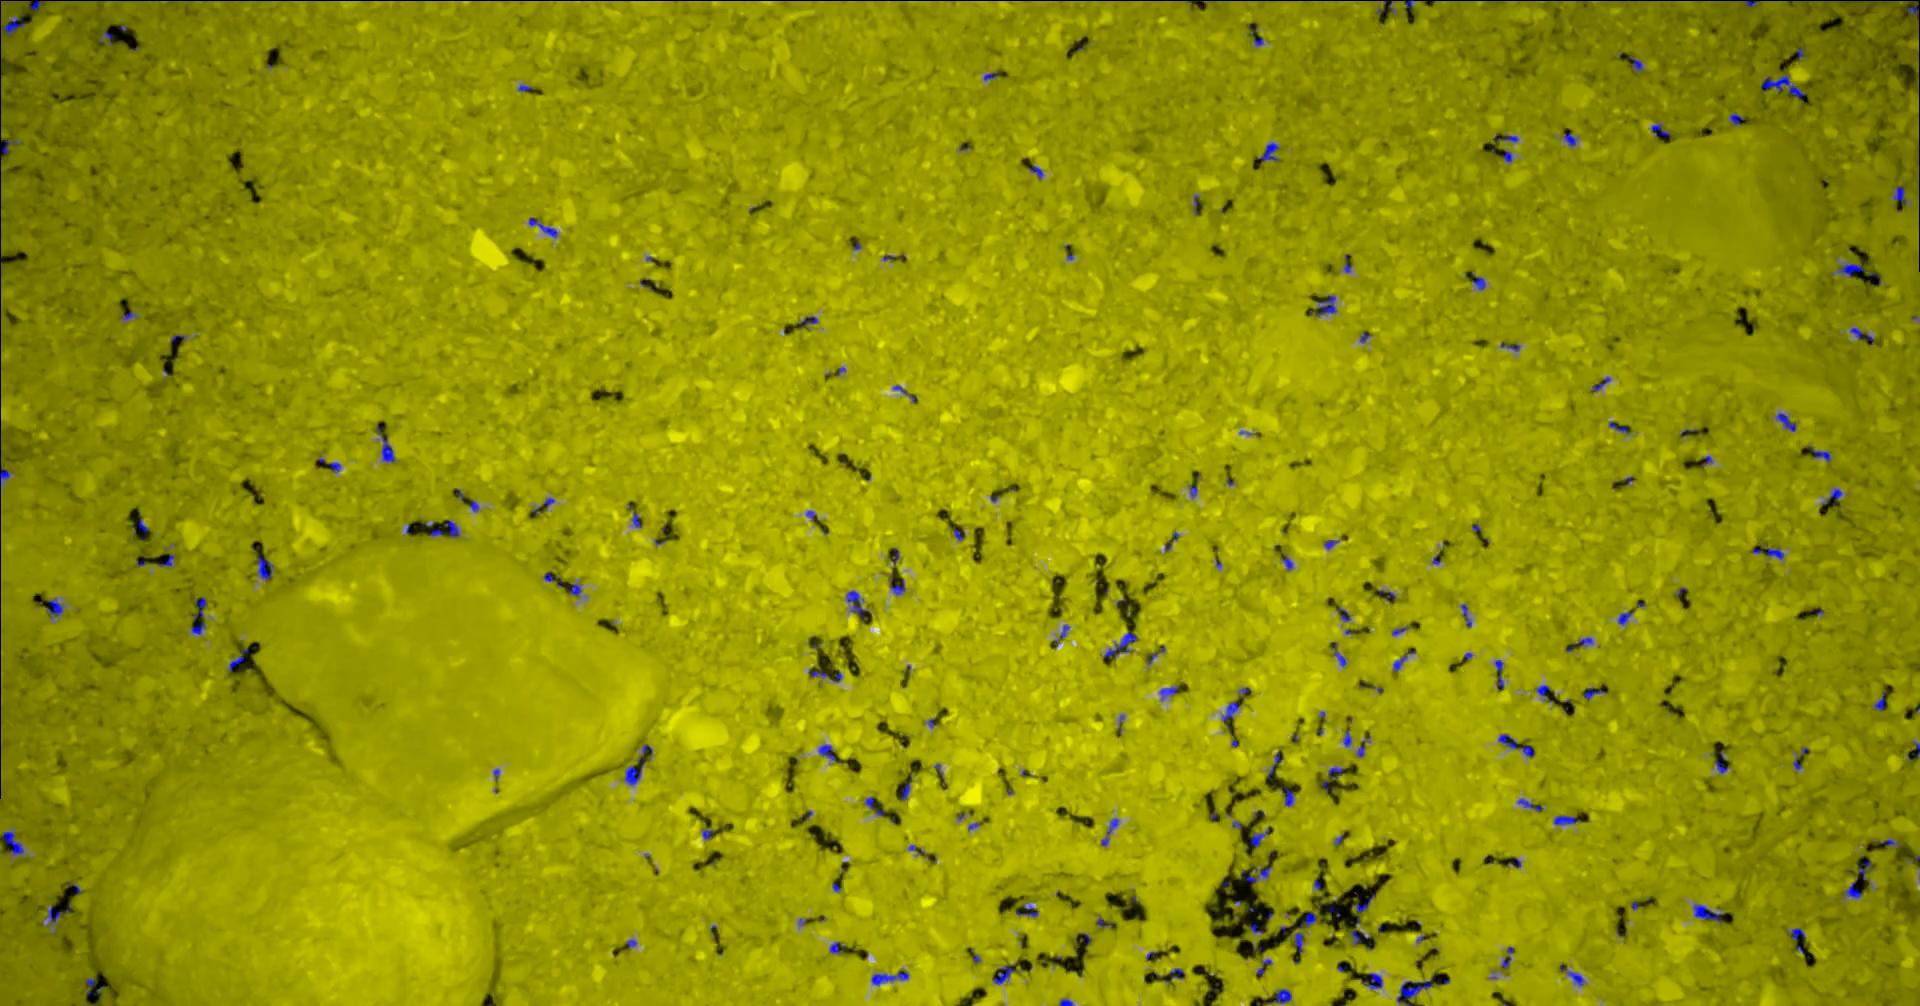ant: (1785, 0, 1919, 15), (1761, 74, 1804, 102), (1396, 978, 1432, 1005), (1103, 631, 1137, 657), (844, 589, 869, 622), (376, 424, 396, 462), (623, 756, 645, 785), (1693, 903, 1724, 922), (528, 217, 557, 238), (1308, 295, 1336, 315), (1239, 865, 1271, 882), (0, 17, 24, 38), (46, 903, 71, 923), (871, 970, 908, 984), (3, 829, 23, 854), (1559, 964, 1583, 984), (1751, 544, 1783, 559), (0, 431, 9, 484), (1101, 817, 1117, 845), (1831, 263, 1863, 277), (257, 553, 273, 579), (11, 0, 55, 10), (1256, 142, 1279, 161), (229, 648, 248, 671), (1250, 826, 1269, 847), (1354, 893, 1375, 912), (992, 965, 1015, 983), (1267, 988, 1291, 1005), (1775, 412, 1796, 431), (1359, 973, 1382, 989), (1712, 749, 1727, 774), (46, 598, 63, 619), (1222, 701, 1239, 721), (1855, 860, 1873, 880), (889, 572, 904, 594), (1331, 643, 1346, 666), (1843, 880, 1862, 898), (1821, 486, 1841, 503), (192, 597, 206, 620), (1892, 185, 1909, 205), (1517, 798, 1542, 810), (818, 744, 836, 761), (1298, 911, 1316, 927), (899, 774, 910, 799), (1497, 734, 1517, 748), (1608, 420, 1629, 433), (1724, 0, 1760, 8), (1628, 55, 1643, 72), (0, 138, 19, 152), (543, 572, 563, 586), (1159, 685, 1178, 699), (1350, 930, 1369, 944), (1583, 687, 1606, 699), (1015, 904, 1037, 916), (1495, 659, 1503, 688), (1650, 123, 1670, 136), (444, 520, 458, 537), (1460, 603, 1470, 627), (797, 315, 817, 328), (1811, 448, 1830, 461), (1785, 927, 1804, 940), (1501, 946, 1512, 967), (159, 553, 175, 567), (1617, 611, 1633, 625), (1393, 654, 1407, 671), (1553, 815, 1578, 824), (1281, 788, 1293, 807), (1335, 607, 1350, 621), (1378, 589, 1396, 601), (1873, 692, 1884, 710), (98, 30, 112, 44), (1563, 132, 1577, 146), (1470, 276, 1484, 290), (1535, 683, 1550, 696), (1327, 767, 1343, 779), (1730, 112, 1743, 124), (568, 583, 582, 596), (1168, 967, 1183, 978), (1521, 744, 1534, 757), (190, 622, 204, 634), (1294, 932, 1302, 951), (829, 941, 842, 953)
